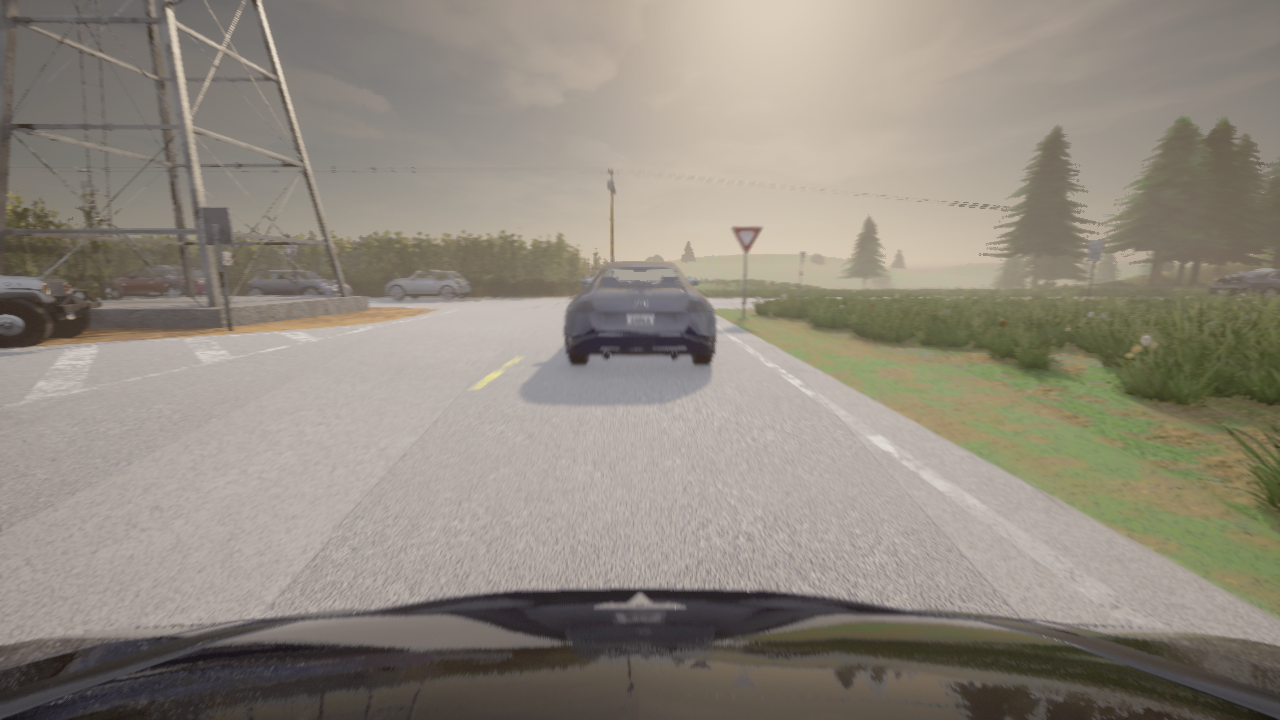cyclist: (0, 588, 1279, 719), (564, 262, 715, 364), (103, 267, 206, 299), (247, 270, 351, 295), (386, 271, 469, 300), (1208, 269, 1279, 298)
